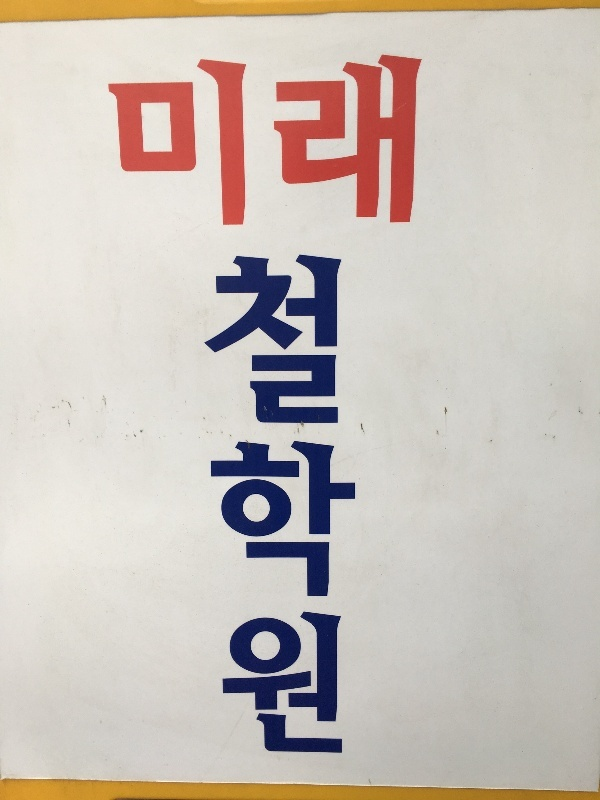text: (209, 255, 224, 754), (225, 255, 240, 754), (241, 255, 256, 754), (257, 255, 272, 754), (273, 255, 288, 754), (289, 255, 304, 754), (305, 255, 320, 754), (321, 255, 336, 754), (337, 255, 352, 754), (113, 54, 128, 227), (129, 54, 144, 227), (145, 54, 160, 227), (161, 54, 176, 227), (177, 54, 192, 227), (193, 54, 208, 227), (209, 54, 224, 227), (225, 54, 240, 227), (241, 54, 256, 227), (257, 54, 272, 227), (273, 54, 288, 227), (289, 54, 304, 227), (305, 54, 320, 227), (321, 54, 336, 227), (337, 54, 352, 227), (353, 54, 368, 227), (369, 54, 384, 227), (385, 54, 400, 227), (401, 54, 416, 227), (353, 255, 358, 754), (417, 54, 424, 227), (206, 255, 208, 754), (107, 54, 112, 227)
